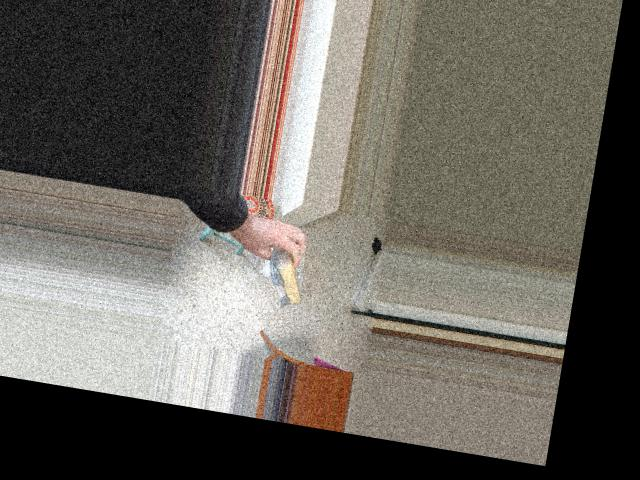cheese: (259, 221, 312, 314)
